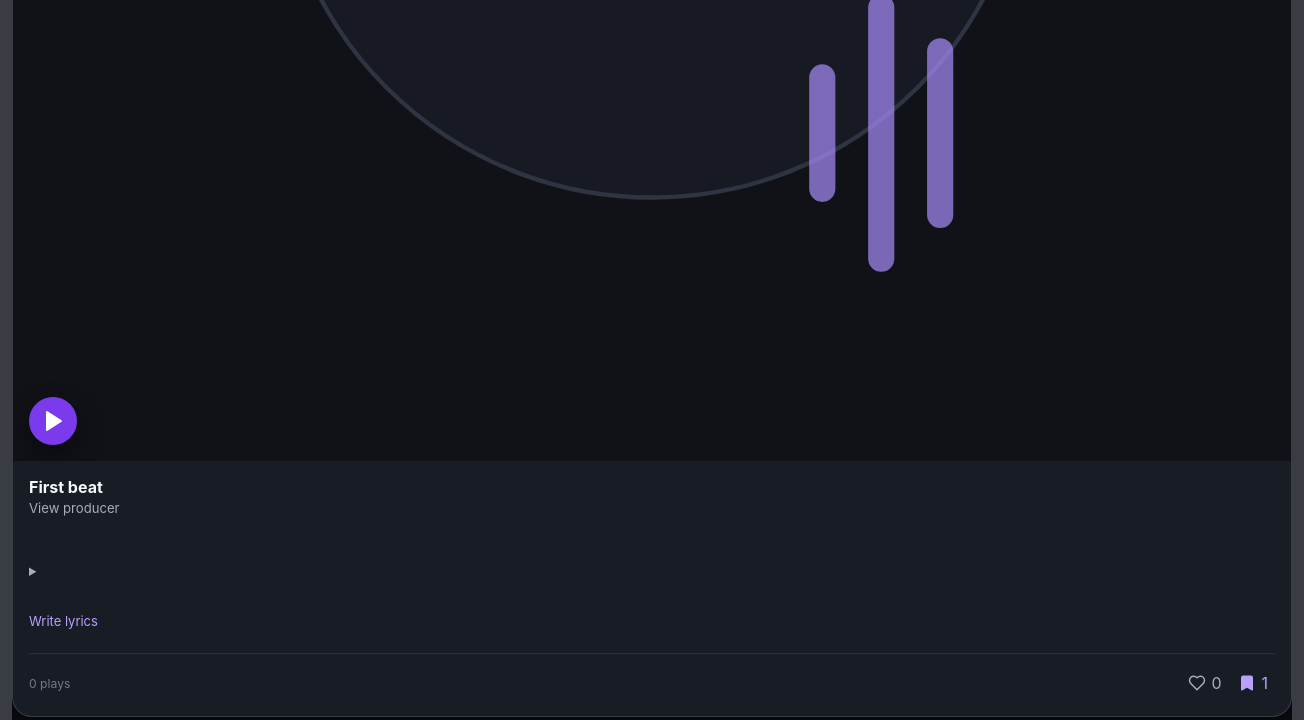
Test: audio and interaction flows › keeps a saved card when unsave fails and exposes a useful error
(page scrolled)
Click the button named "Remove from library": (1253, 683) [1232,666,1275,700]
(page scrolled)
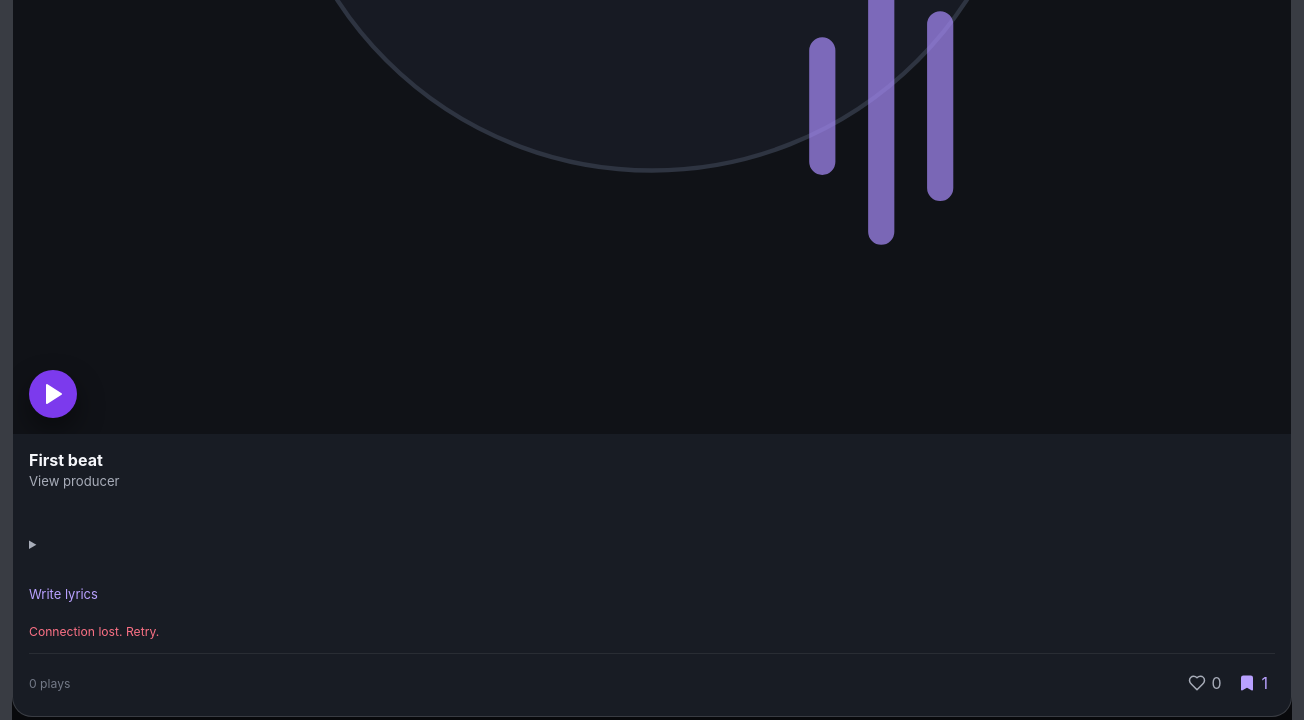
Expected: the message shows "Retry", [29,624,159,639]
